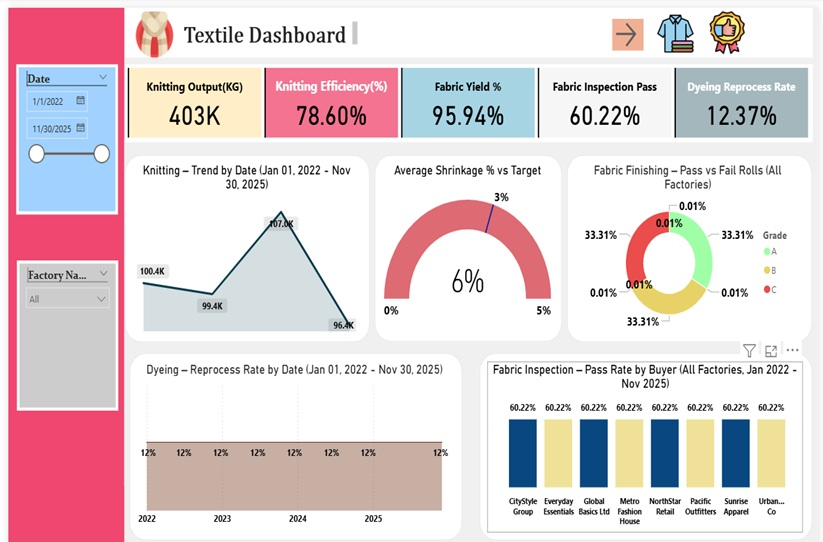

Layout of this report page (visuals, bound fields, positions):
{"tool":"powerbi","page":{"name":"Textile Dashboard","canvas":[1280,720],"ordinal":0},"visuals":[{"type":"shape","box":[0,0,183.2,719.9],"z":0},{"type":"shape","box":[183.4,0,1087,66.4],"z":1000},{"type":"textbox","box":[271.4,13.3,284.7,43.4],"z":2000},{"type":"cardVisual","fields":{"Data":["@Measure Textile.Knitting Output(KG)","@Measure Textile.Knitting Efficiency(%)","@Measure Textile.Fabric Yield %","@Measure Textile.Fabric Inspection Pass","@Measure Textile.Dyeing Reprocess Rate"]},"box":[183.4,74.8,1087,103.8],"z":3000},{"type":"shape","box":[183.4,196.6,387.3,249.7],"z":4000},{"type":"shape","box":[883.1,196.6,387.3,249.7],"z":5000},{"type":"shape","box":[191.8,460.9,526,249.7],"z":6000},{"type":"shape","box":[744.4,460.9,526,249.7],"z":7000},{"type":"lineChart","fields":{"Category":["dim_date.Year","dim_date.Month Name","dim_date.Day Name","dim_date.Day"],"Y":["@Measure Textile.Knitting Output(KG)"]},"box":[199.1,206.3,355.9,230.4],"z":8000},{"type":"stackedAreaChart","fields":{"Category":["dim_date.Date"],"Y":["@Measure Textile.Dyeing Reprocess Rate"]},"box":[200.3,471.7,504.3,228],"z":9000},{"type":"lineClusteredColumnComboChart","fields":{"Y":["@Measure Textile.Fabric Inspection Pass"],"Category":["dim_buyer.Buyer Name"]},"box":[756.4,471.7,499.5,228],"z":10000},{"type":"donutChart","fields":{"Y":["@Measure Textile.Pass Rolls","@Measure Textile.Fail Rolls","@Measure Textile.Total Finish KG"],"Category":["fact_fabric_inspection.Grade"]},"box":[891.6,206.3,364.3,230.4],"z":11000},{"type":"slicer","fields":{"Values":["dim_factory.Factory Name"]},"box":[13.6,337,160,200],"z":12000},{"type":"slicer","fields":{"Values":["dim_date.Date"]},"box":[12.1,74.8,160.5,200],"z":13000},{"type":"image","box":[1096.7,0,77,64],"z":14000},{"type":"image","box":[1023.5,0,71,64],"z":15000},{"type":"actionButton","title":"Go To Next Page","box":[954.3,14.5,49.5,42.2],"z":16000},{"type":"shape","box":[579.1,196.6,295.6,249],"z":17000},{"type":"gauge","title":"Average Shrinkage % vs Target","fields":{"Y":["@Measure Textile.Avg Shrinkage %"],"TargetValue":["@Measure Textile.Target Shrinkage %"]},"box":[588.7,206.3,273.9,220.8],"z":18000},{"type":"image","box":[198.8,0,82.7,66.7],"z":19000}]}

Visuals, with their boxes on the page's 1280x720 design canvas (x1, y1, x2, y2). These are canvas units, not pixel positions in the 823x542 screenshot, which may show the page scaled, cropped or inside an application window:
shape: (x1=0, y1=0, x2=183, y2=720)
shape: (x1=183, y1=0, x2=1270, y2=66)
textbox: (x1=271, y1=13, x2=556, y2=57)
cardVisual - @Measure Textile.Knitting Output(KG) x @Measure Textile.Knitting Efficiency(%): (x1=183, y1=75, x2=1270, y2=179)
shape: (x1=183, y1=197, x2=571, y2=446)
shape: (x1=883, y1=197, x2=1270, y2=446)
shape: (x1=192, y1=461, x2=718, y2=711)
shape: (x1=744, y1=461, x2=1270, y2=711)
lineChart - dim_date.Year x dim_date.Month Name: (x1=199, y1=206, x2=555, y2=437)
stackedAreaChart - dim_date.Date x @Measure Textile.Dyeing Reprocess Rate: (x1=200, y1=472, x2=705, y2=700)
lineClusteredColumnComboChart - @Measure Textile.Fabric Inspection Pass x dim_buyer.Buyer Name: (x1=756, y1=472, x2=1256, y2=700)
donutChart - @Measure Textile.Pass Rolls x @Measure Textile.Fail Rolls: (x1=892, y1=206, x2=1256, y2=437)
slicer - dim_factory.Factory Name: (x1=14, y1=337, x2=174, y2=537)
slicer - dim_date.Date: (x1=12, y1=75, x2=173, y2=275)
image: (x1=1097, y1=0, x2=1174, y2=64)
image: (x1=1024, y1=0, x2=1094, y2=64)
"Go To Next Page" actionButton: (x1=954, y1=14, x2=1004, y2=57)
shape: (x1=579, y1=197, x2=875, y2=446)
"Average Shrinkage % vs Target" gauge: (x1=589, y1=206, x2=863, y2=427)
image: (x1=199, y1=0, x2=282, y2=67)
